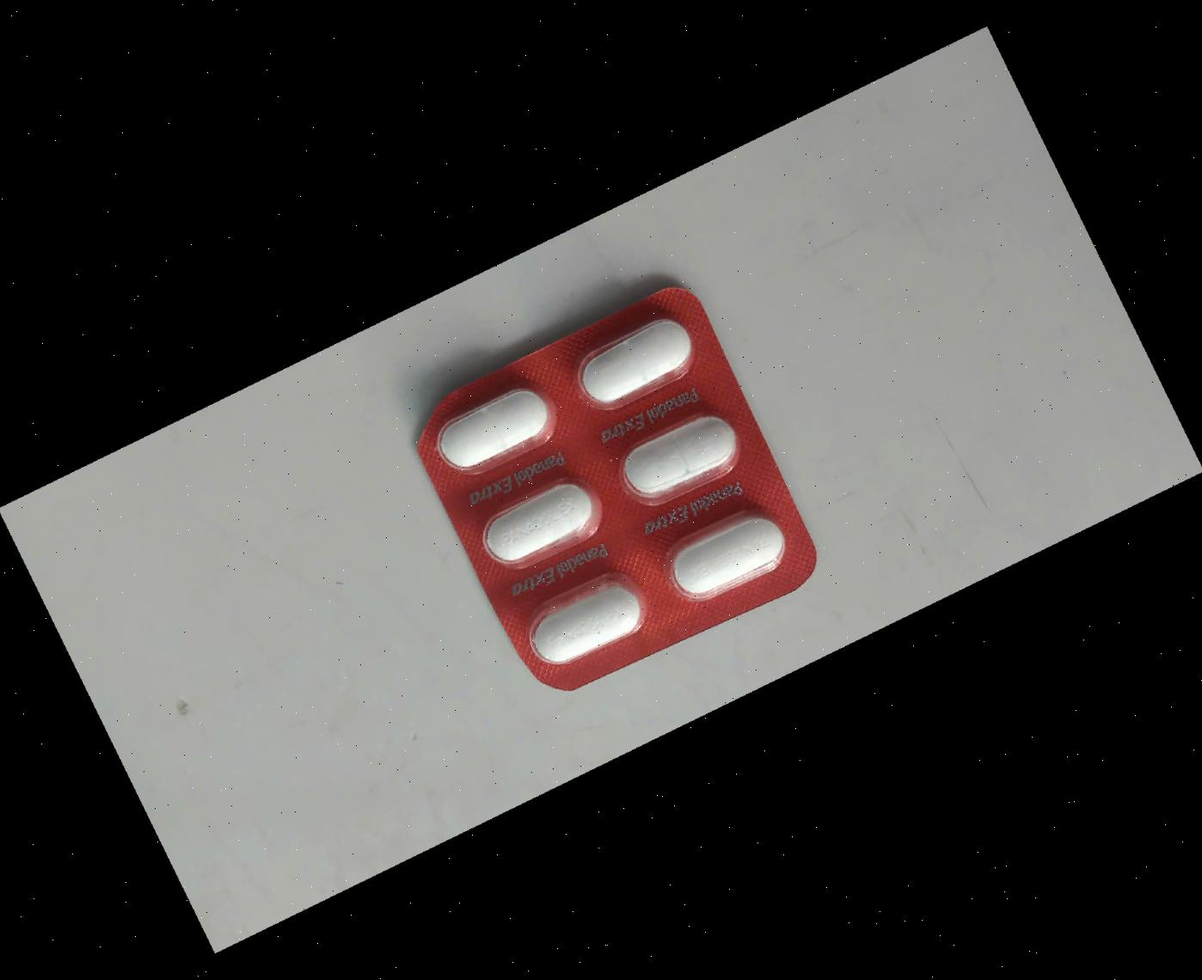Full: (566, 305, 708, 419), (611, 398, 753, 512), (658, 499, 800, 613), (423, 372, 565, 486), (474, 466, 616, 580), (518, 565, 660, 679)
